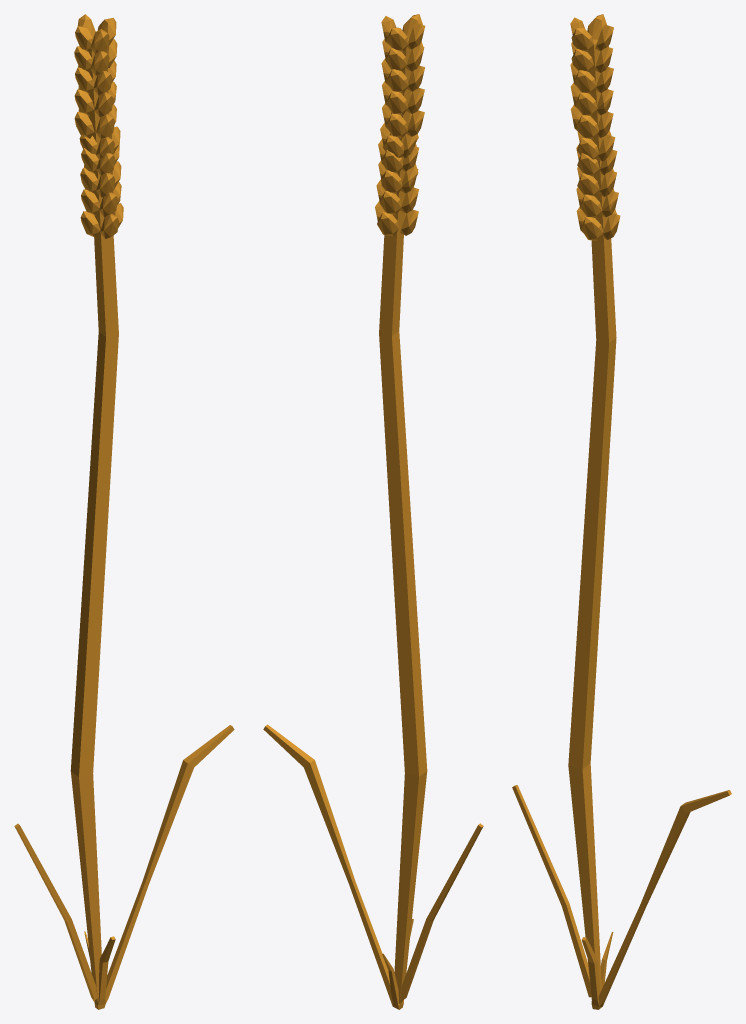
Rendered from blé.fbx.
The picture shows the model from 3 angles, left to right: view 1: azimuth 30°, elevation 25°; view 2: azimuth 150°, elevation 25°; view 3: azimuth 330°, elevation 25°; orthographic projection.
Visible parts, largest first — view 1: Icosphere.039; view 2: Icosphere.039; view 3: Icosphere.039.
Part boxes in pixels (<box>): Icosphere.039: <box>14,14,234,1009</box>; Icosphere.039: <box>263,14,483,1009</box>; Icosphere.039: <box>512,14,731,1009</box>.
Bounding box in the file's own units: 144 × 621 × 34.15.
